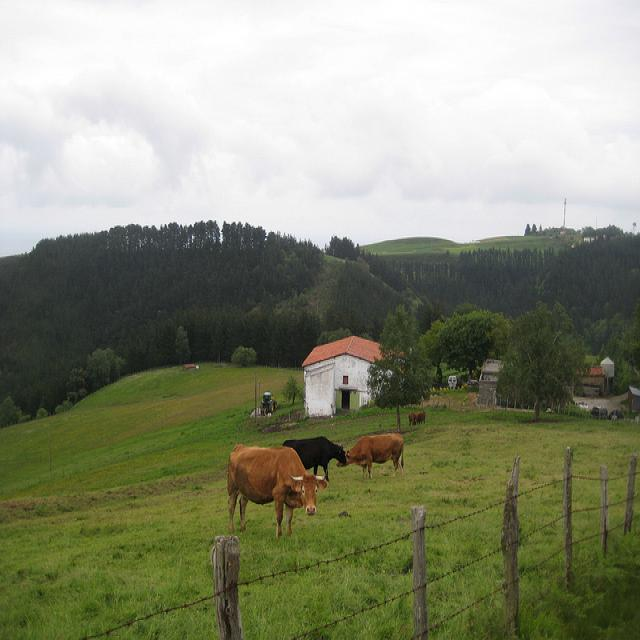cow: (226, 443, 327, 537), (334, 432, 403, 479), (280, 432, 344, 480), (413, 408, 424, 423), (407, 409, 415, 424)
